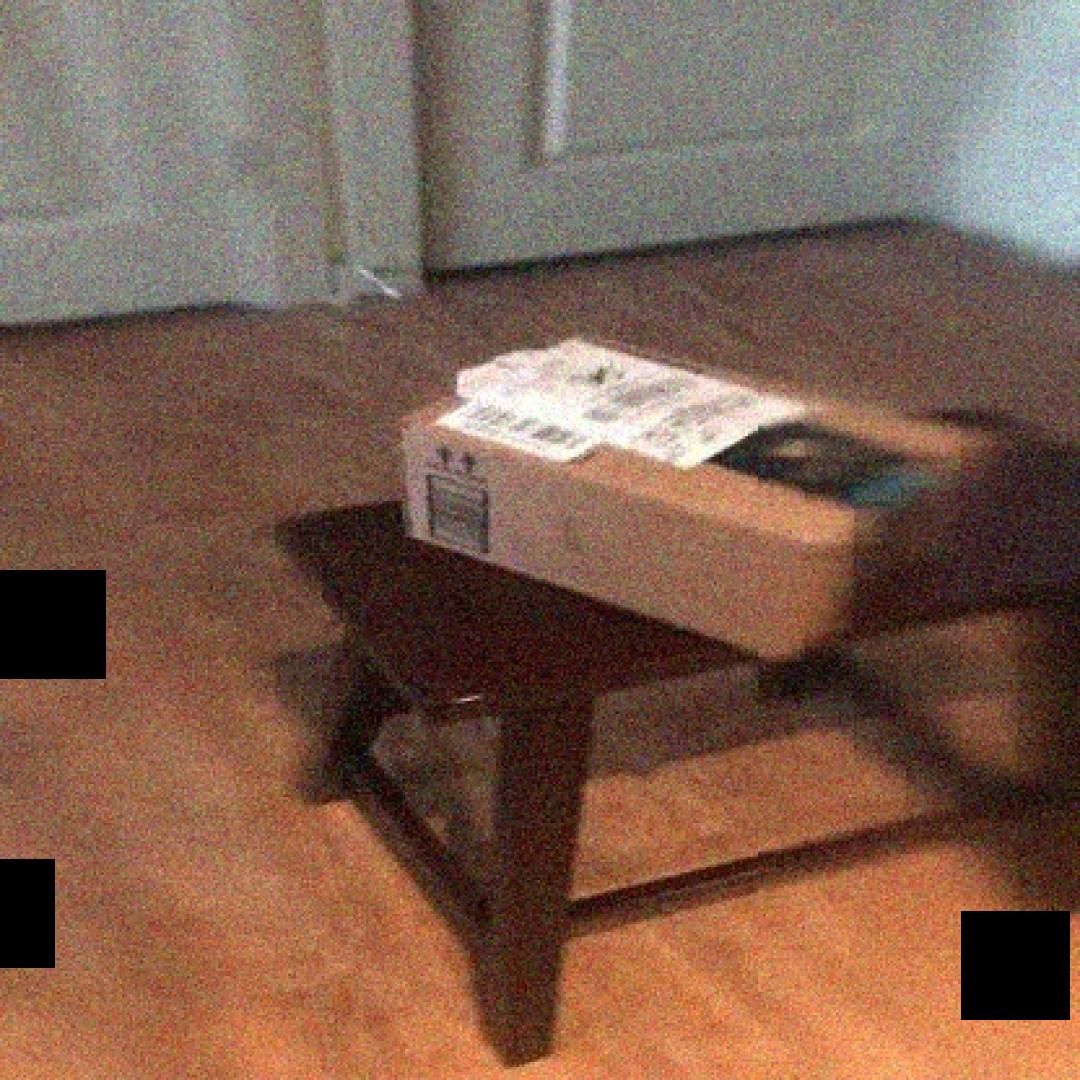package: (382, 330, 1000, 670)
